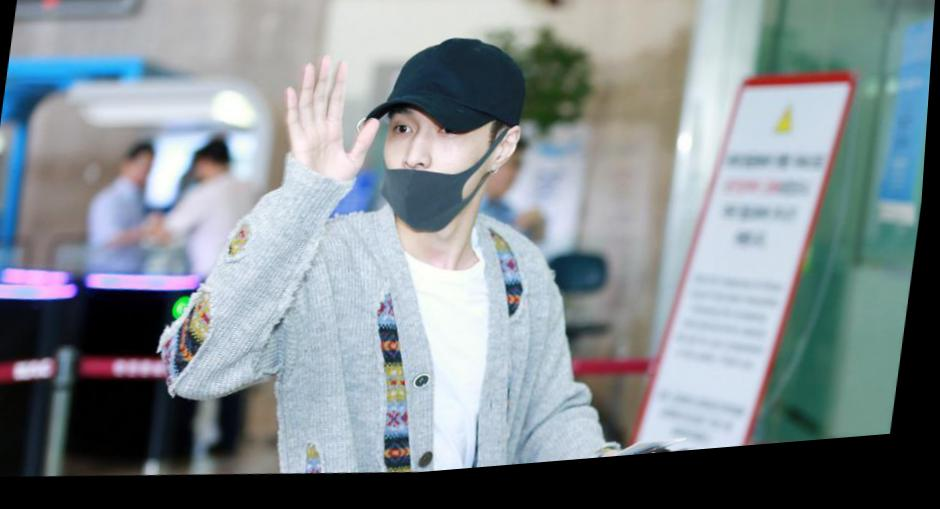WRONG: (374, 97, 502, 247)
